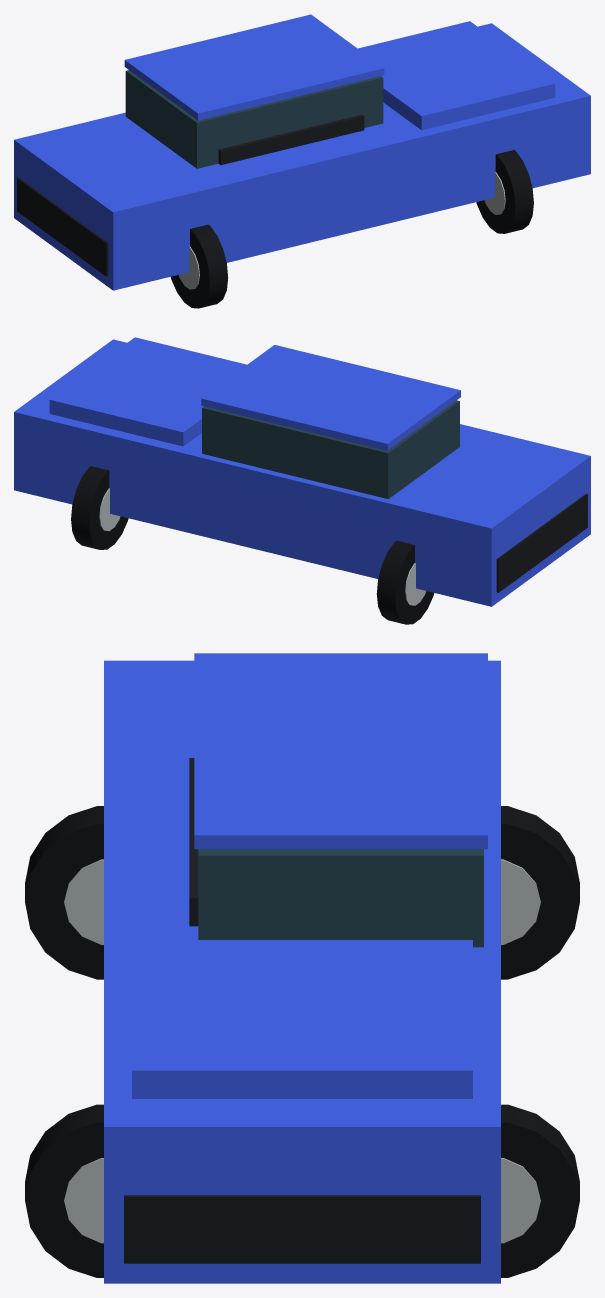
The model's file is chevy_colorado.glb.
3 views of the same model, one above another, from view 1: azimuth 30°, elevation 25°; view 2: azimuth 150°, elevation 25°; view 3: azimuth 270°, elevation 25° (orthographic). The views are drawn at different scales.
Parts seen in each view (by area): view 1: body, roof, hood, cabin, rear_bumper, front_right_wheel, rear_right_wheel, interior; view 2: body, roof, cabin, hood, rear_bumper, front_left_wheel, rear_left_wheel; view 3: body, roof, hood, cabin, front_bumper, rear_left_wheel, rear_right_wheel, front_left_wheel, front_right_wheel, interior.
Boxes of the visible parts, x1=… form: body: x1=14, y1=23, x2=590, y2=290; roof: x1=124, y1=14, x2=384, y2=120; hood: x1=358, y1=21, x2=555, y2=130; cabin: x1=125, y1=70, x2=383, y2=168; rear_bumper: x1=17, y1=177, x2=108, y2=276; front_right_wheel: x1=476, y1=150, x2=533, y2=233; rear_right_wheel: x1=170, y1=224, x2=228, y2=308; interior: x1=218, y1=114, x2=364, y2=165; body: x1=14, y1=339, x2=590, y2=606; roof: x1=201, y1=345, x2=460, y2=450; cabin: x1=202, y1=400, x2=459, y2=499; hood: x1=49, y1=337, x2=246, y2=446; rear_bumper: x1=496, y1=494, x2=587, y2=592; front_left_wheel: x1=71, y1=466, x2=128, y2=549; rear_left_wheel: x1=376, y1=540, x2=434, y2=624; body: x1=104, y1=660, x2=500, y2=1283; roof: x1=194, y1=653, x2=487, y2=849; hood: x1=132, y1=940, x2=472, y2=1098; cabin: x1=198, y1=849, x2=483, y2=947; front_bumper: x1=124, y1=1195, x2=480, y2=1263; rear_left_wheel: x1=501, y1=806, x2=579, y2=979; rear_right_wheel: x1=25, y1=806, x2=103, y2=979; front_left_wheel: x1=501, y1=1104, x2=579, y2=1277; front_right_wheel: x1=25, y1=1104, x2=103, y2=1277; interior: x1=189, y1=758, x2=198, y2=926.
Size of the model in its own units: 5.75 by 1.93 by 2.87.
